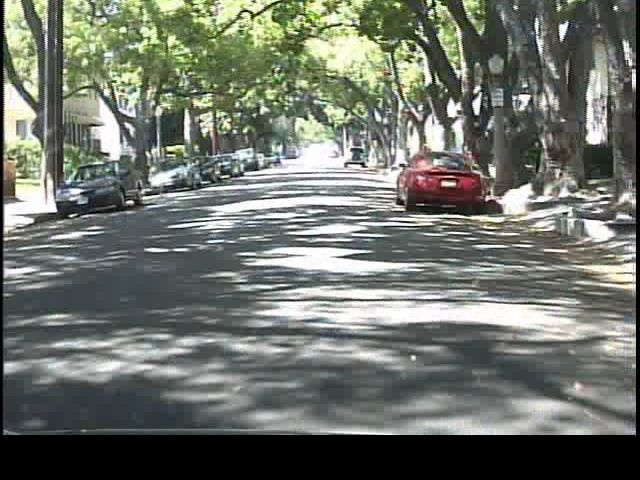person: (139, 144, 159, 186)
